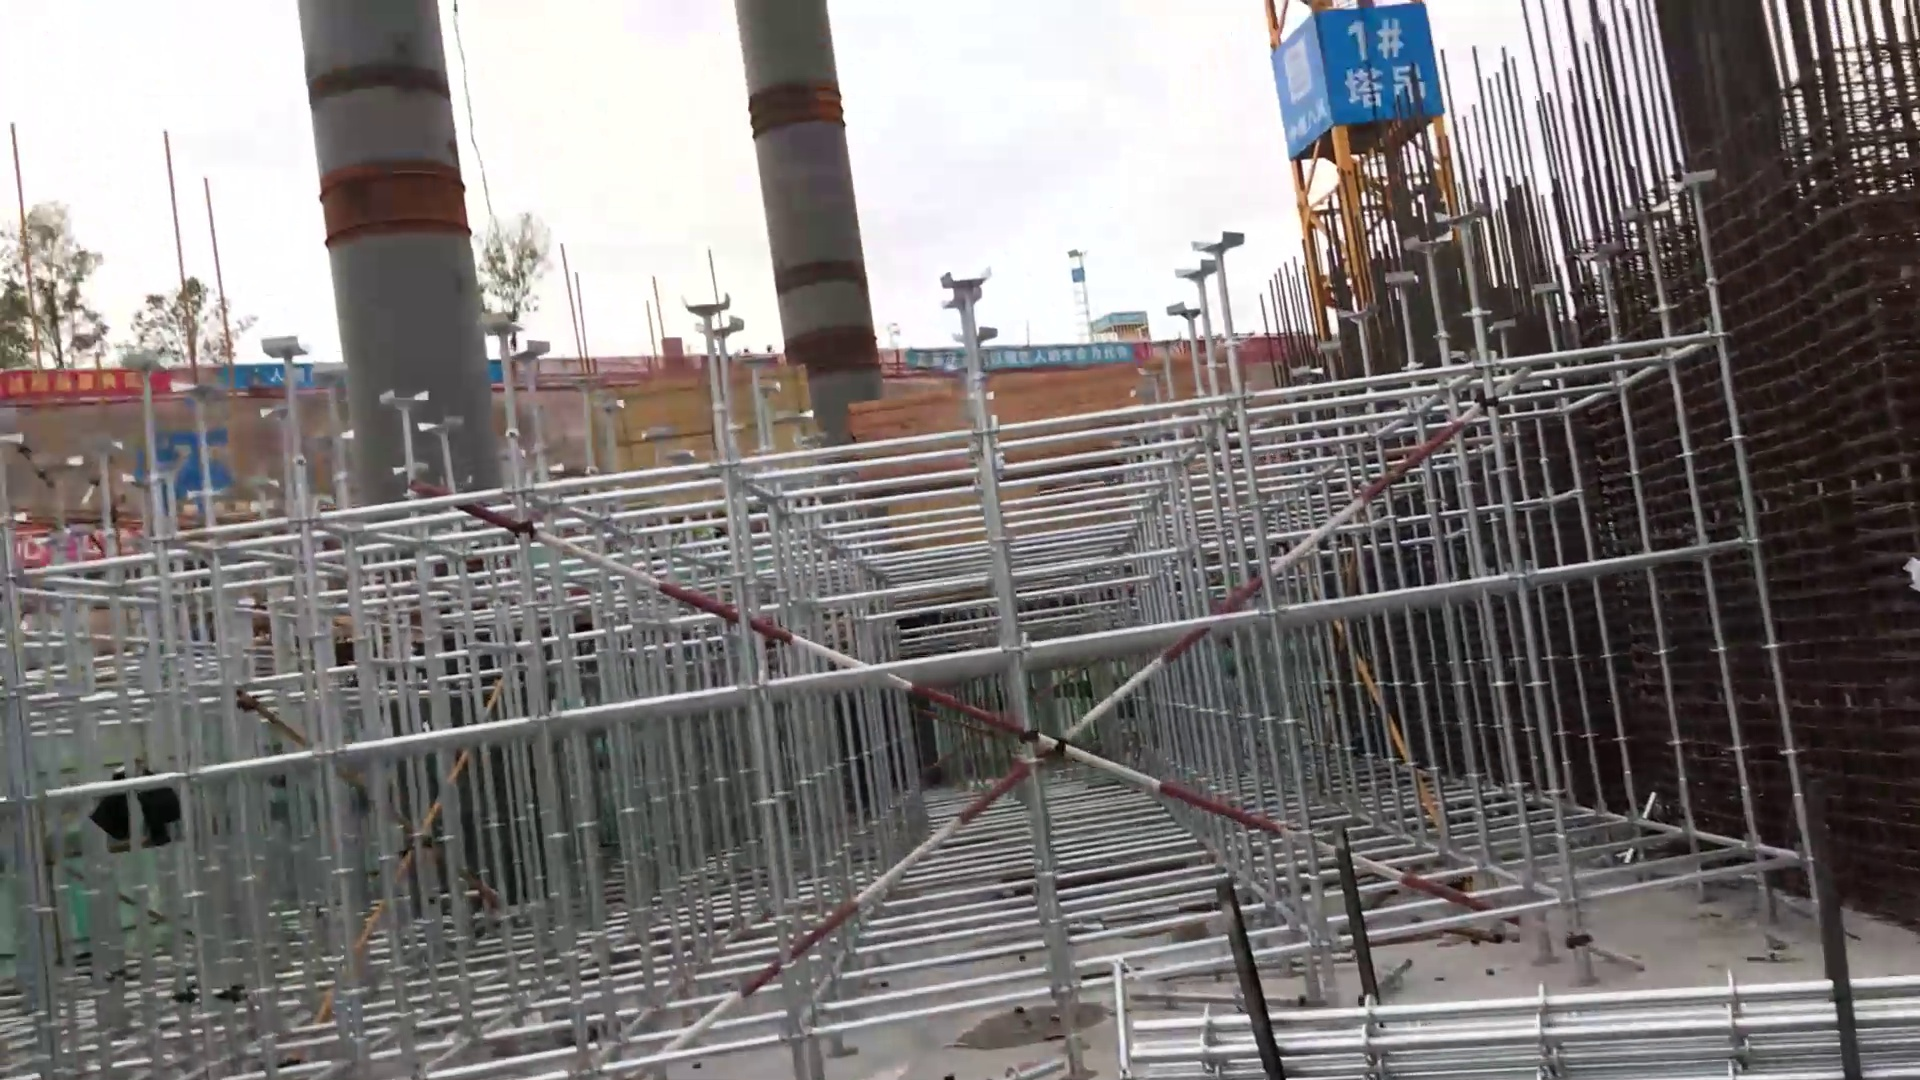slogan: (9, 360, 316, 400), (906, 339, 1139, 371)
